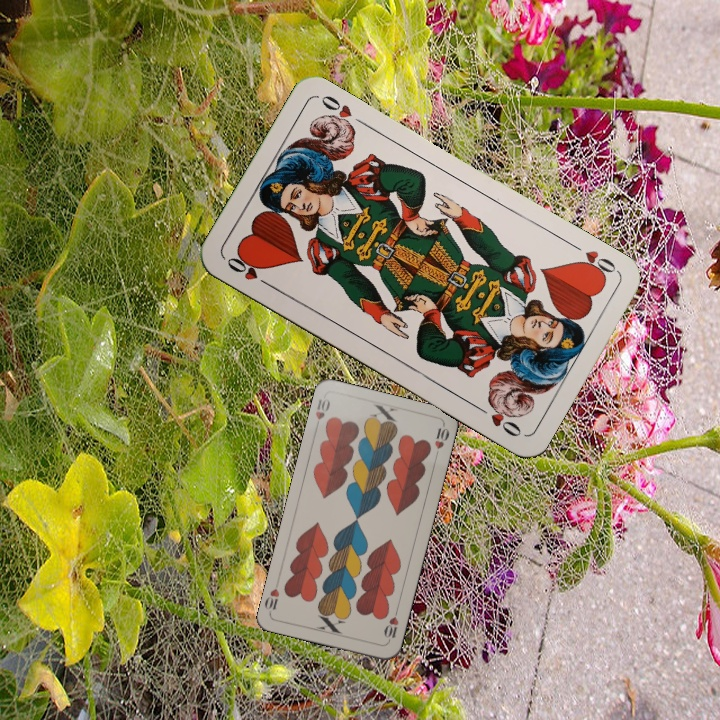H10: (380, 605, 401, 645), (311, 394, 333, 432)
HO: (567, 239, 621, 282), (222, 251, 275, 291)
